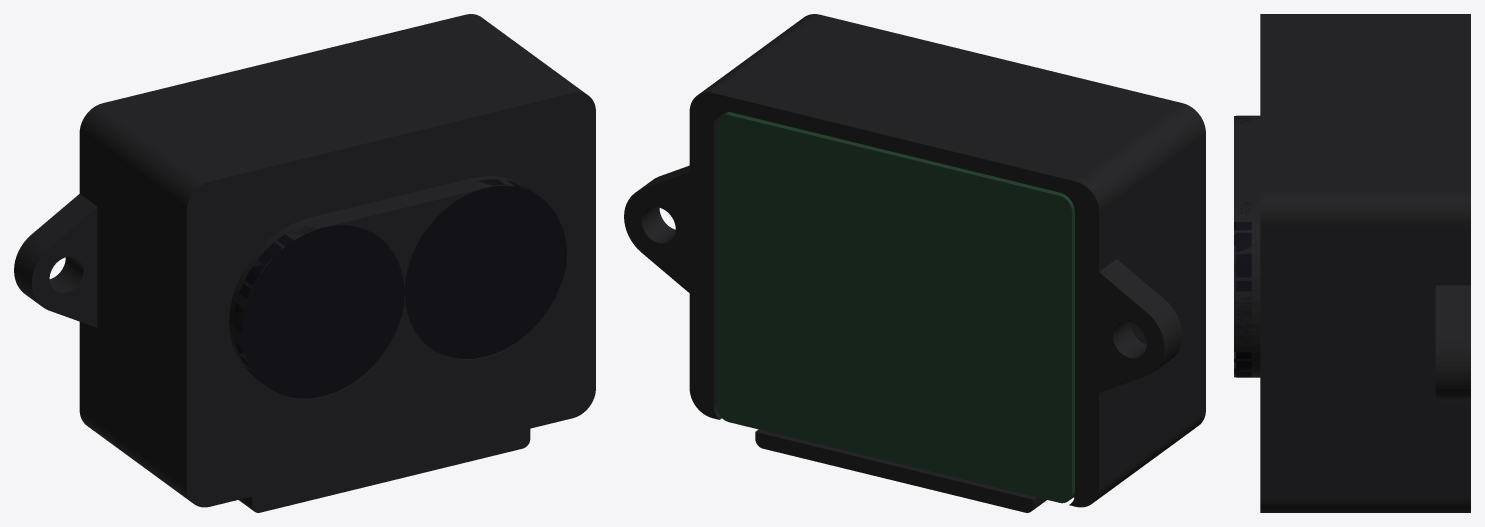
Rendered from benewake-tf-luna.glb.
The picture shows the model from 3 angles, left to right: view 1: azimuth 30°, elevation 25°; view 2: azimuth 150°, elevation 25°; view 3: azimuth 270°, elevation 25°; orthographic projection.
Parts seen in each view (by area): view 1: benewake-tf-luna; view 2: benewake-tf-luna; view 3: benewake-tf-luna.
Boxes of the visible parts, left/top/right/bottom form: benewake-tf-luna: left=14, top=14, right=595, bottom=512; benewake-tf-luna: left=624, top=14, right=1205, bottom=512; benewake-tf-luna: left=1234, top=14, right=1470, bottom=512.
Bounding box in the file's own units: 35 × 21.25 × 13.5.
